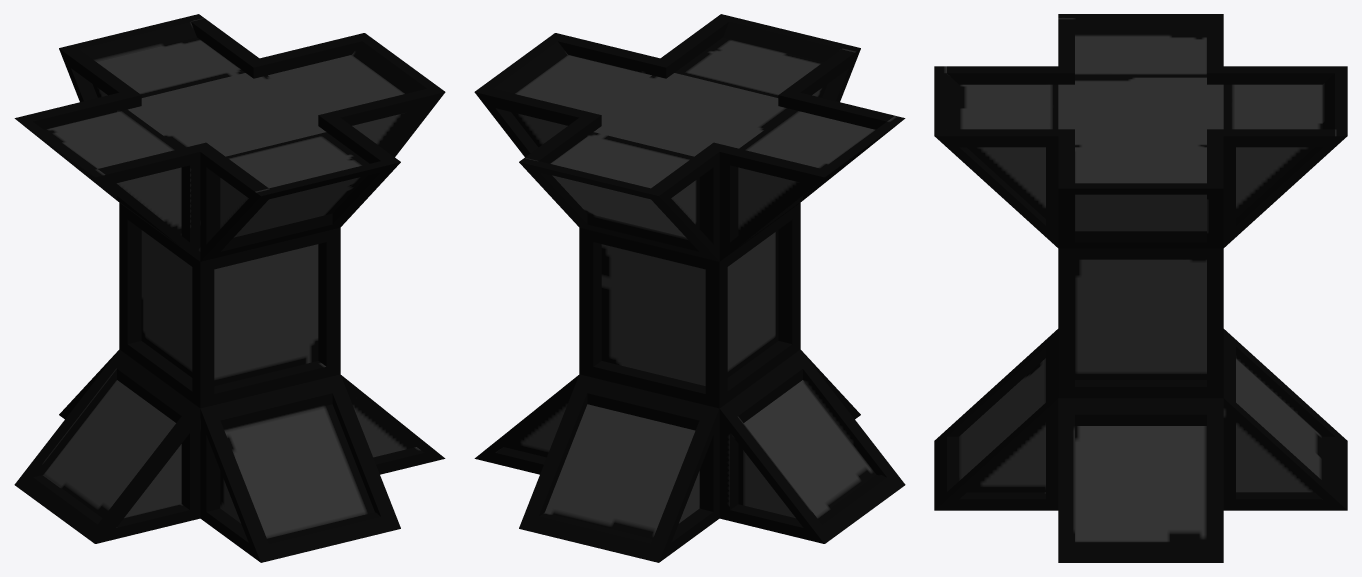
Rendered from Bedrock.fbx.
The picture shows the model from 3 angles, left to right: view 1: azimuth 30°, elevation 25°; view 2: azimuth 150°, elevation 25°; view 3: azimuth 270°, elevation 25°; orthographic projection. The views are drawn at different scales.
Parts seen in each view (by area): view 1: Bedrock; view 2: Bedrock; view 3: Bedrock.
Boxes of the visible parts, box(x1,y1,x2,y2) form: Bedrock: box(14, 14, 445, 562); Bedrock: box(474, 14, 905, 562); Bedrock: box(934, 14, 1347, 562).
Bounding box in the file's own units: 1 × 1 × 1.
Materials: 1 (1 with a texture image).
